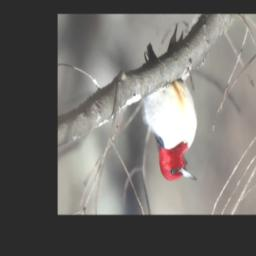Woodpecker: (139, 20, 200, 182)
